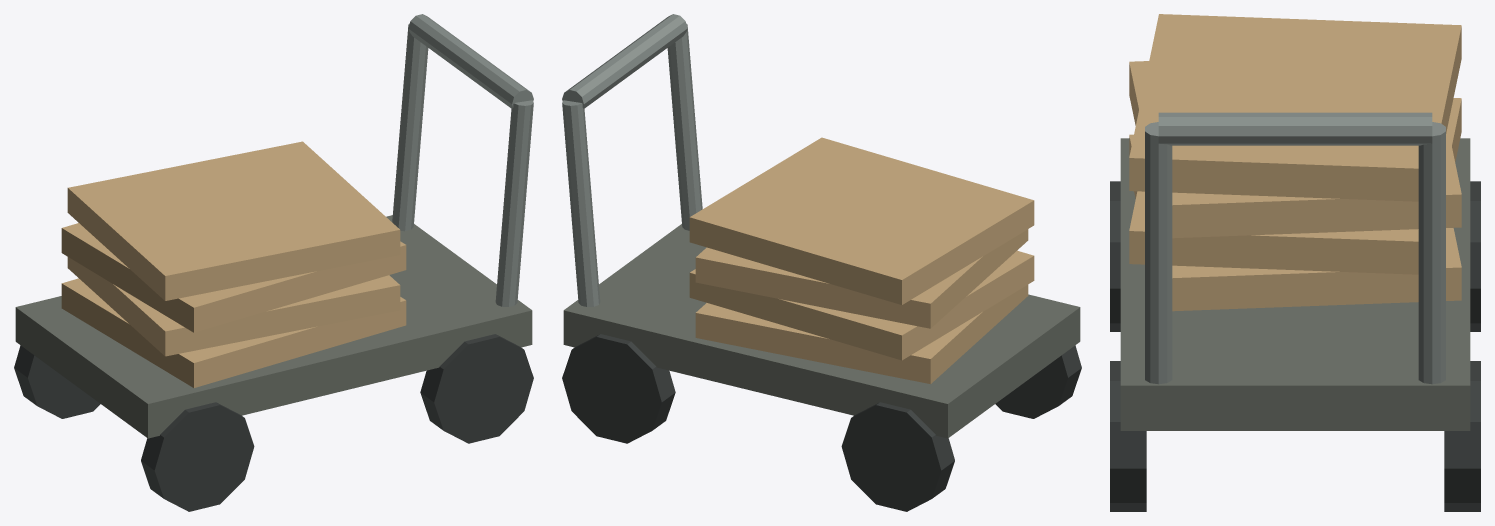
The model's file is PZ_BoxCart.glb.
The picture shows the model from 3 angles, left to right: view 1: azimuth 30°, elevation 25°; view 2: azimuth 150°, elevation 25°; view 3: azimuth 270°, elevation 25°; orthographic projection. The views are drawn at different scales.
Visible parts, largest first — view 1: PZ_BoxCart; view 2: PZ_BoxCart; view 3: PZ_BoxCart.
Boxes of the visible parts, x1,y1,x2,y2 form: PZ_BoxCart: [14, 14, 533, 511]; PZ_BoxCart: [562, 14, 1081, 511]; PZ_BoxCart: [1110, 14, 1480, 511].
Bounding box in the file's own units: 8.02 × 6.16 × 4.88.
Materials: 1 (1 with a texture image).
